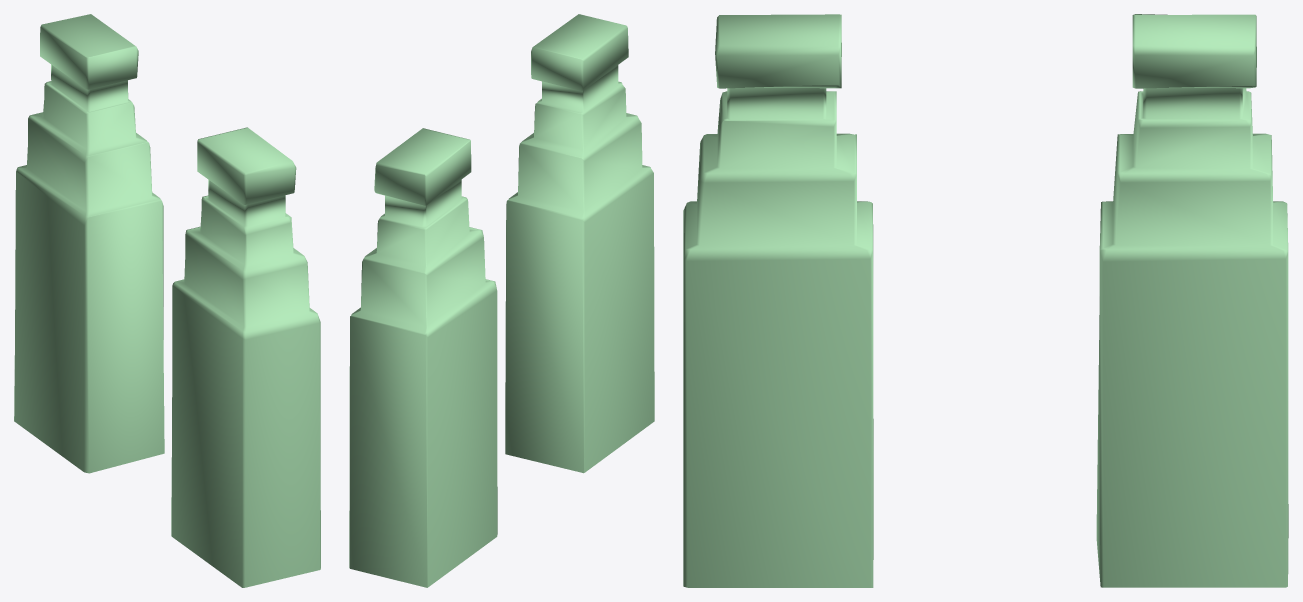
File: Stone_Pillar_Low.fbx
The picture shows the model from 3 angles, left to right: view 1: azimuth 30°, elevation 25°; view 2: azimuth 150°, elevation 25°; view 3: azimuth 270°, elevation 25°; orthographic projection. The views are drawn at different scales.
Visible parts, largest first — view 1: Stone_Pillar_R; view 2: Stone_Pillar_R; view 3: Stone_Pillar_R.
Boxes of the visible parts, x1,y1,x2,y2 form: Stone_Pillar_R: (14, 14, 320, 587); Stone_Pillar_R: (349, 14, 654, 587); Stone_Pillar_R: (683, 14, 1288, 587).
Size of the model in its own units: 218 by 1053 by 1085.
